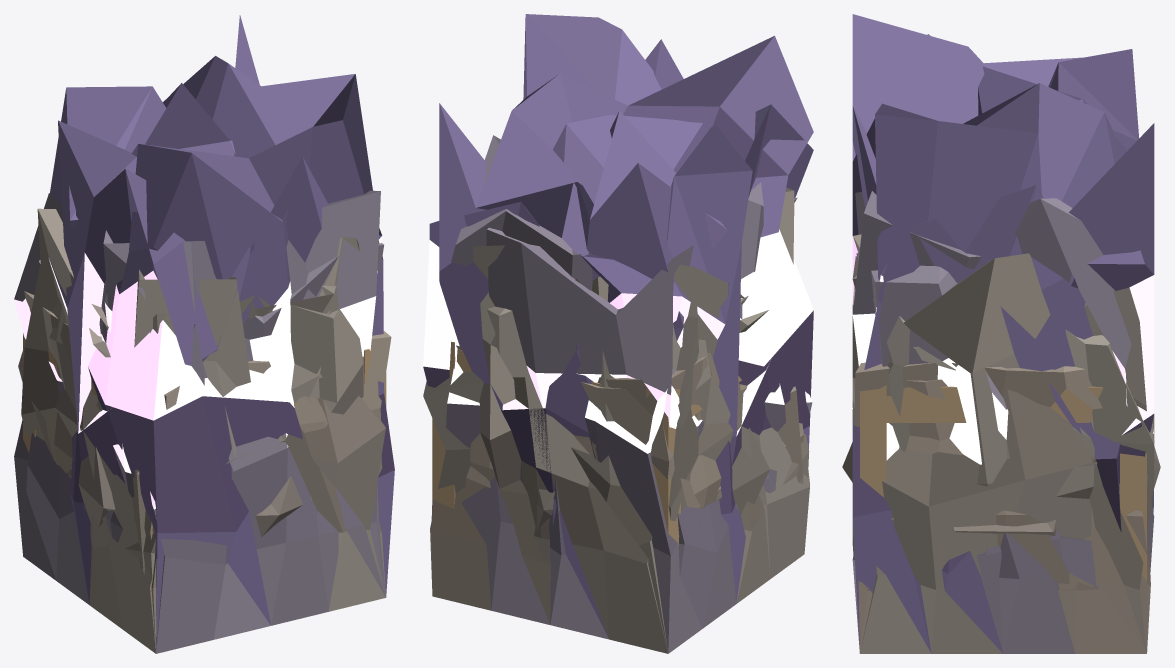
Rendered from MineKit.glb.
The picture shows the model from 3 angles, left to right: view 1: azimuth 30°, elevation 25°; view 2: azimuth 150°, elevation 25°; view 3: azimuth 270°, elevation 25°; orthographic projection. The views are drawn at different scales.
Parts seen in each view (by area): view 1: wall_breach_b, wall_passage_b, wall_breach_a, wall_rock_b, wall_passage_a, wall_rock_c, wall_rock_a, wall_worked_b, wall_worked_a, ore_rock_a, ore_rock_b; view 2: wall_breach_b, wall_passage_a, wall_breach_a, wall_rock_a, wall_passage_b, wall_worked_a, wall_rock_b, wall_rock_c, wall_worked_b, ore_rock_a; view 3: wall_breach_b, wall_rock_b, wall_rock_c, wall_breach_a, wall_passage_b, wall_worked_b, wall_passage_a, wall_worked_a, wall_rock_a, ore_rock_b.
Part boxes in pixels (<box>): wall_breach_b: <box>39,15,394,652</box>; wall_passage_b: <box>14,190,385,625</box>; wall_breach_a: <box>38,83,382,483</box>; wall_rock_b: <box>21,208,385,653</box>; wall_passage_a: <box>14,193,385,653</box>; wall_rock_c: <box>89,237,385,629</box>; wall_rock_a: <box>49,295,363,575</box>; wall_worked_b: <box>23,291,391,650</box>; wall_worked_a: <box>18,333,386,539</box>; ore_rock_a: <box>68,447,115,526</box>; ore_rock_b: <box>255,476,312,536</box>; wall_breach_b: <box>439,14,813,637</box>; wall_passage_a: <box>445,197,812,639</box>; wall_breach_a: <box>423,39,813,524</box>; wall_rock_a: <box>423,306,803,653</box>; wall_passage_b: <box>451,135,785,653</box>; wall_worked_a: <box>431,345,803,624</box>; wall_rock_b: <box>473,245,809,578</box>; wall_rock_c: <box>479,187,809,651</box>; wall_worked_b: <box>432,341,809,543</box>; ore_rock_a: <box>537,427,769,531</box>; wall_breach_b: <box>852,14,1154,653</box>; wall_rock_b: <box>852,256,1147,653</box>; wall_rock_c: <box>852,234,1154,653</box>; wall_breach_a: <box>852,34,1154,653</box>; wall_passage_b: <box>852,191,1154,652</box>; wall_worked_b: <box>854,362,1146,653</box>; wall_passage_a: <box>852,253,1154,653</box>; wall_worked_a: <box>860,379,1150,653</box>; wall_rock_a: <box>852,286,1154,652</box>; ore_rock_b: <box>842,442,1056,535</box>.
Size of the model in its own units: 3.44 by 6.72 by 3.55.
